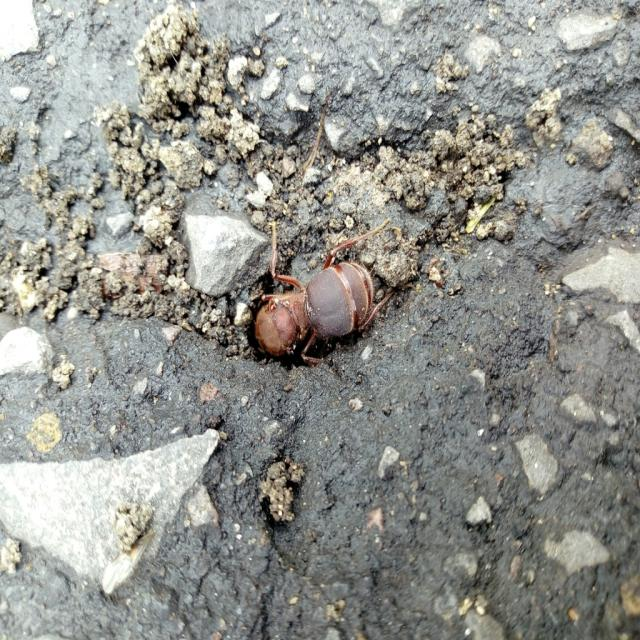Alive-Female-Dealate: (254, 217, 415, 382)
